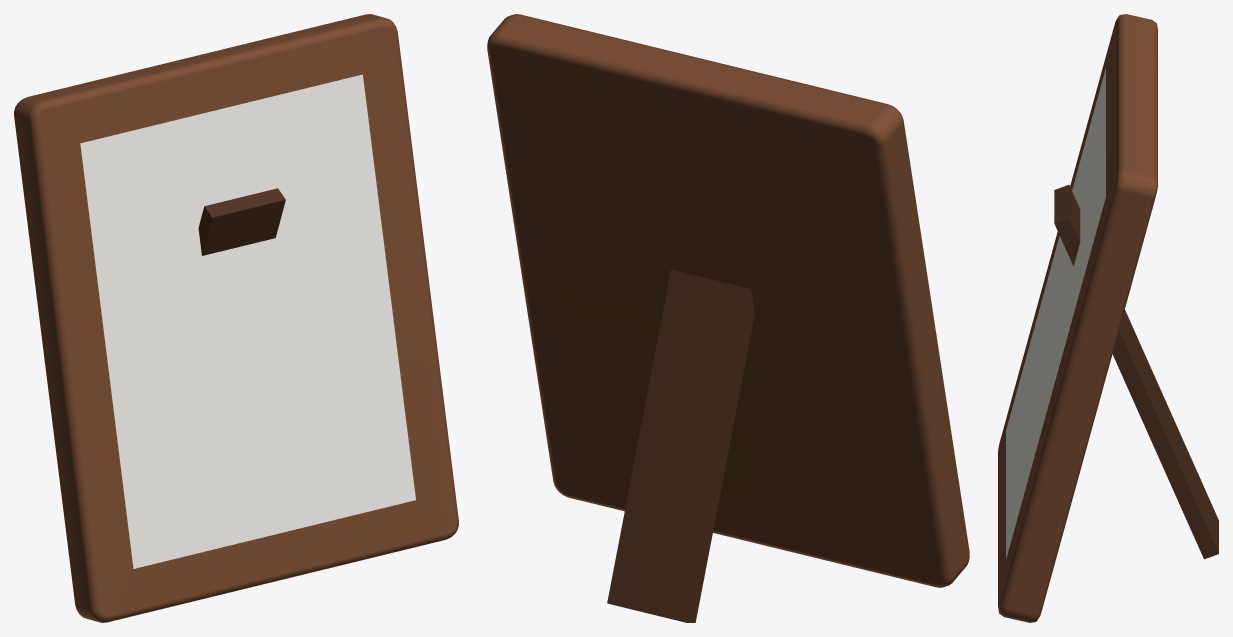
The model's file is RmPhotoFrame.fbx.
3 views of the same model, side by side, from view 1: azimuth 30°, elevation 25°; view 2: azimuth 150°, elevation 25°; view 3: azimuth 270°, elevation 25° (orthographic). The views are drawn at different scales.
Parts seen in each view (by area): view 1: Photo, RmPhotoFrameBody; view 2: RmPhotoFrameBody; view 3: RmPhotoFrameBody, Photo.
Boxes of the visible parts, <box> form: Photo: <box>80,74,415,568</box>; RmPhotoFrameBody: <box>14,14,458,622</box>; RmPhotoFrameBody: <box>487,14,969,622</box>; RmPhotoFrameBody: <box>998,14,1218,622</box>; Photo: <box>1006,68,1105,559</box>.
Size of the model in its own units: 0.15 by 0.1868 by 0.0829.
